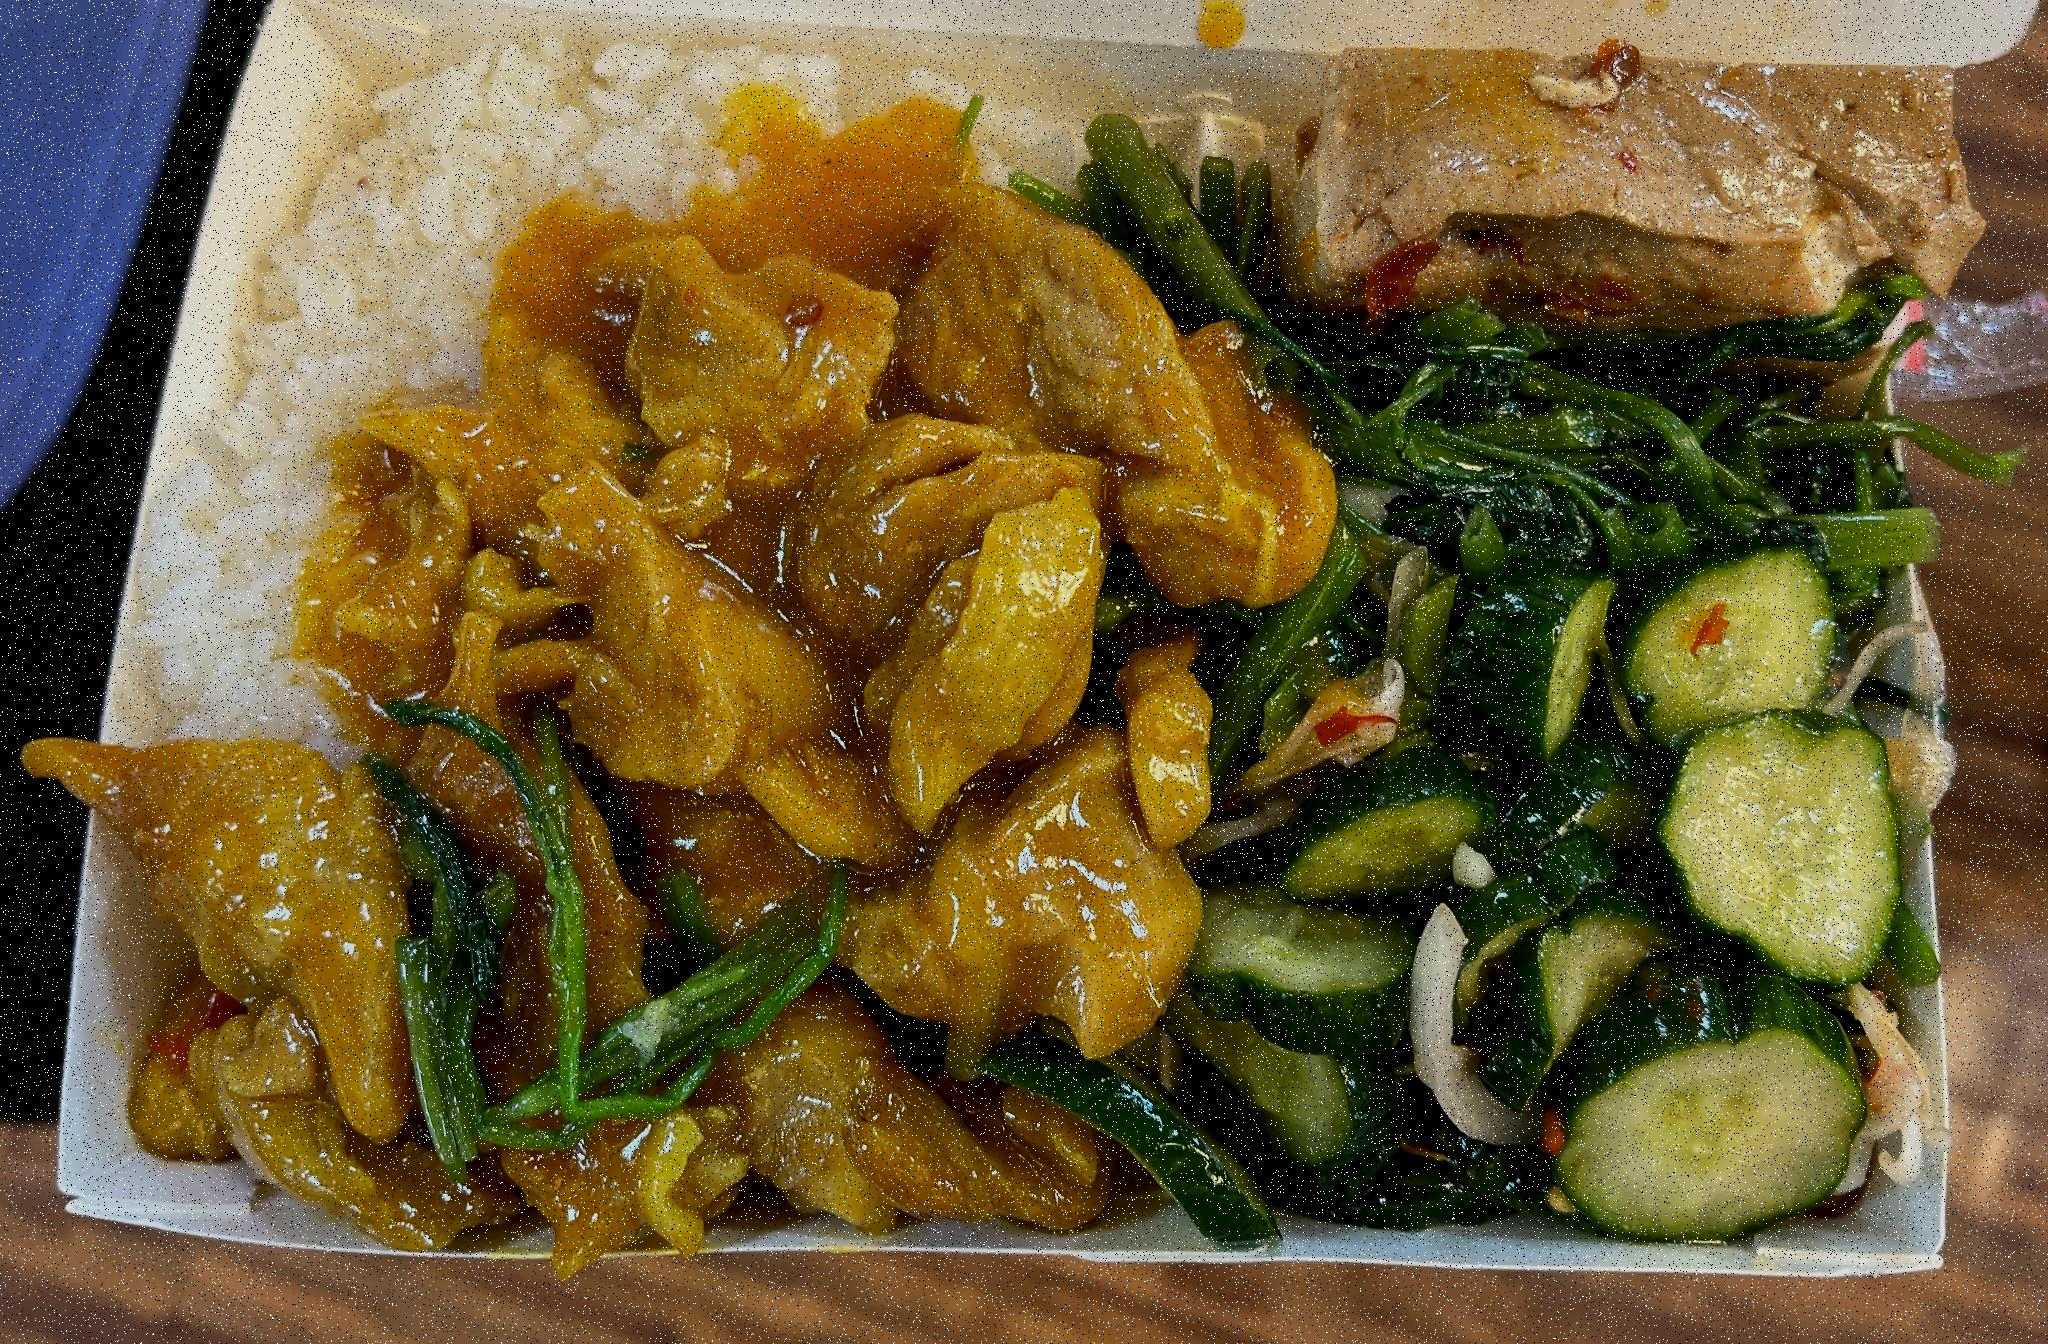curry chicken: (123, 97, 1298, 1206)
side dish: (1, 21, 2015, 1305), (1184, 562, 1897, 1225), (1258, 19, 2005, 319), (1246, 303, 1924, 606)
white rice: (135, 30, 1105, 817)
